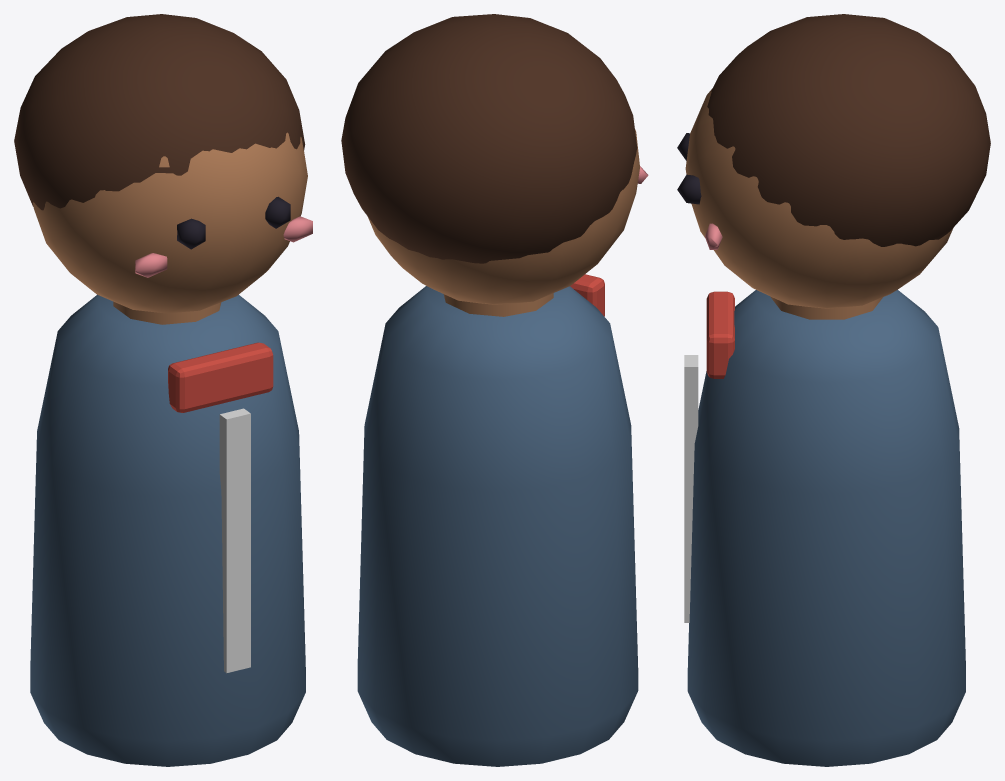
File: person_guest_b.fbx
3 views of the same model, side by side, from view 1: azimuth 30°, elevation 25°; view 2: azimuth 150°, elevation 25°; view 3: azimuth 270°, elevation 25° (orthographic).
Parts seen in each view (by area): view 1: Body, Head; view 2: Body, Head; view 3: Body, Head.
Part boxes in pixels (x1=…): Body: x1=30, y1=294, x2=305, y2=766; Head: x1=14, y1=14, x2=312, y2=313; Body: x1=357, y1=274, x2=638, y2=766; Head: x1=341, y1=14, x2=648, y2=304; Body: x1=684, y1=289, x2=965, y2=766; Head: x1=677, y1=14, x2=990, y2=308.
Bounding box in the file's own units: 0.208 × 0.5394 × 0.222.
